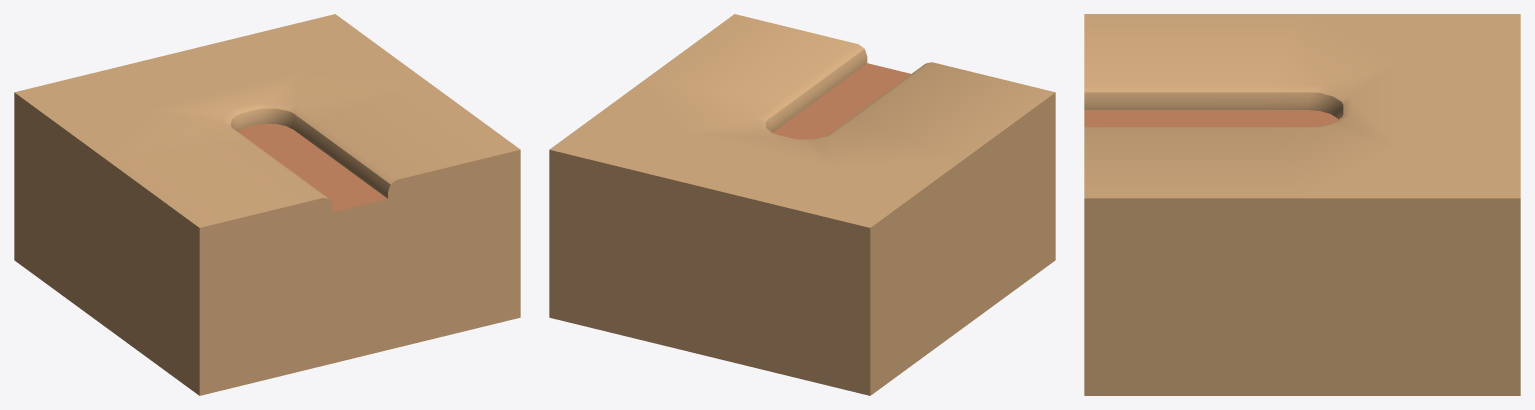
File: square_sand_roadA.glb
The picture shows the model from 3 angles, left to right: view 1: azimuth 30°, elevation 25°; view 2: azimuth 150°, elevation 25°; view 3: azimuth 270°, elevation 25°; orthographic projection. The views are drawn at different scales.
Visible parts, largest first — view 1: square_sand_roadA; view 2: square_sand_roadA; view 3: square_sand_roadA.
Boxes of the visible parts, x1=… form: square_sand_roadA: x1=14, y1=14, x2=520, y2=395; square_sand_roadA: x1=549, y1=14, x2=1055, y2=395; square_sand_roadA: x1=1084, y1=14, x2=1520, y2=395.
Size of the model in its own units: 3.82 by 1.91 by 3.82.
